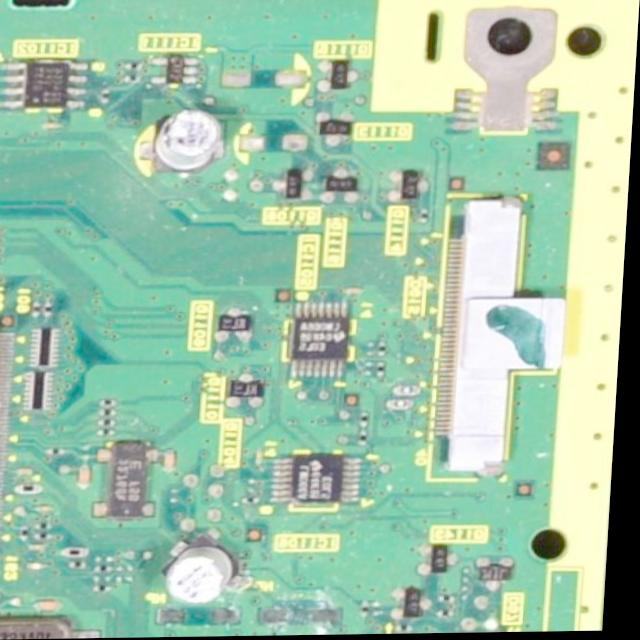IC: (292, 299, 361, 378), (0, 56, 94, 113), (0, 300, 18, 570), (275, 458, 372, 506), (147, 51, 204, 89)
capacitor: (158, 107, 226, 171)
transistor: (223, 372, 277, 414), (324, 162, 373, 207), (422, 540, 469, 584), (388, 165, 432, 209), (315, 58, 365, 96), (273, 163, 318, 205), (483, 553, 524, 597), (400, 577, 436, 626), (317, 111, 357, 152), (215, 308, 258, 346)
